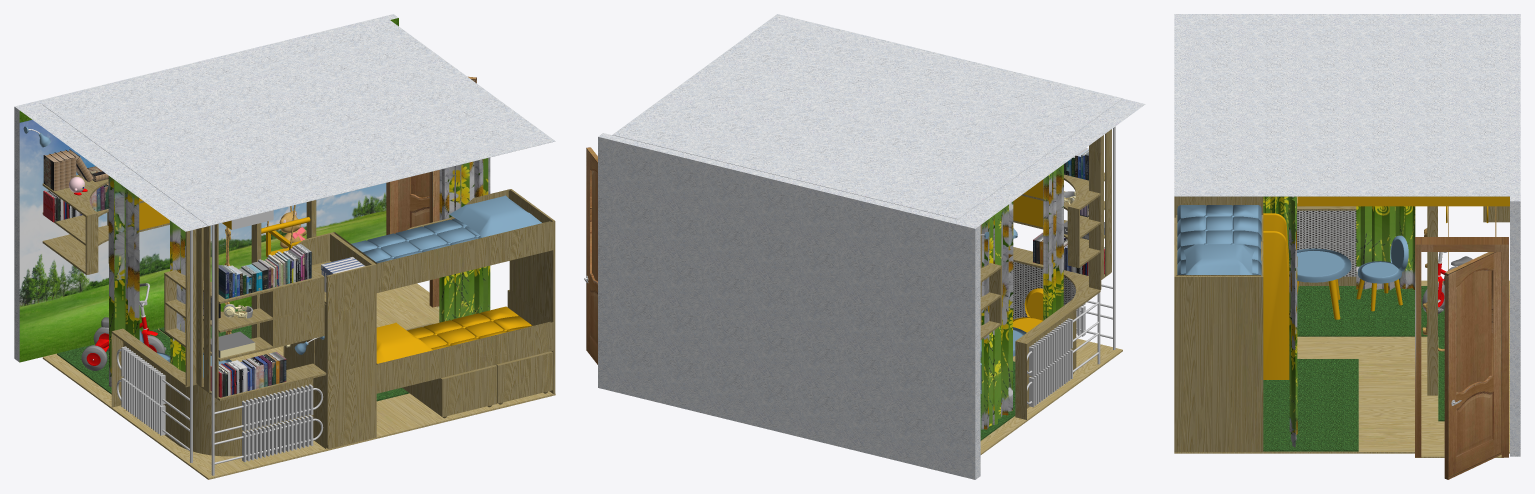
Rendered from habitacion.glb.
3 views of the same model, side by side, from view 1: azimuth 30°, elevation 25°; view 2: azimuth 150°, elevation 25°; view 3: azimuth 270°, elevation 25° (orthographic).
Visible parts, largest first — view 1: Material2 (×16), Material3 (×2); view 2: Material2 (×7), Material3 (×2); view 3: Material2 (×7), Material3 (×2).
Boxes of the visible parts, x1,y1,x2,y2 form: Material2 (×16): (14,14,555,479); Material3 (×2): (54,157,532,363); Material2 (×7): (586,14,1145,479); Material3 (×2): (1013,179,1075,332); Material2 (×7): (1174,14,1520,479); Material3 (×2): (1263,196,1509,379).
Bounding box in the file's own units: 184 × 104 × 128.
Materials: 43 (19 with a texture image).
